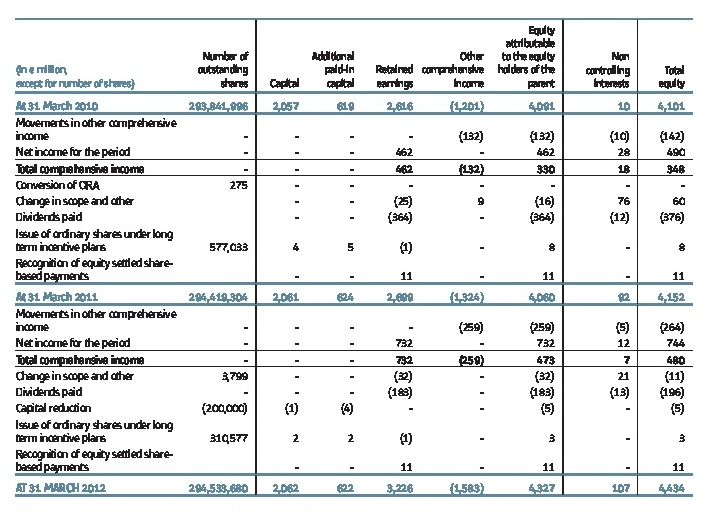table: (0, 0, 710, 512)
